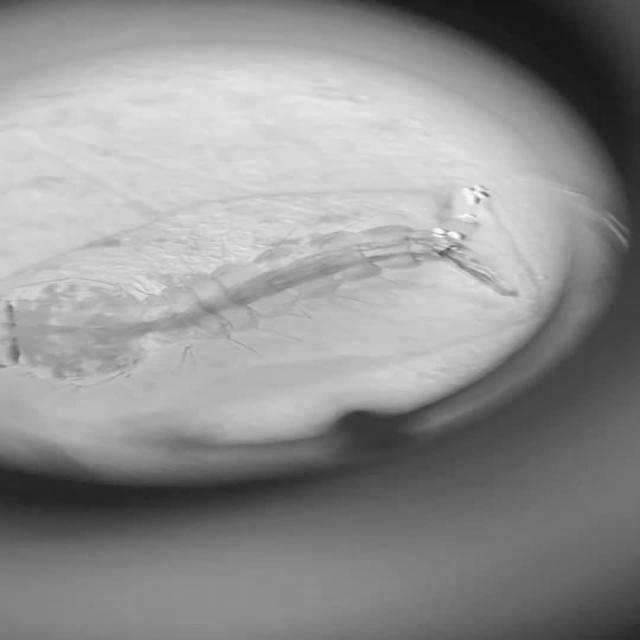larvas: (0, 186, 516, 384)
